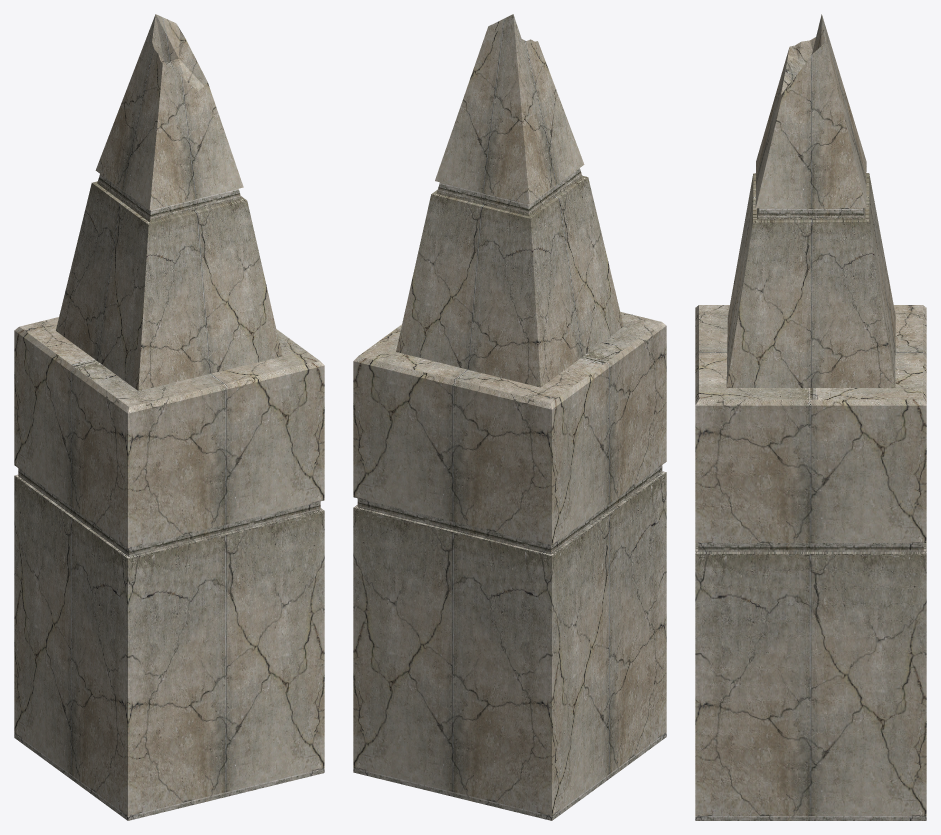
File: poi_all_monolith_s01_l0.fbx
3 renders of one model, left to right at view 1: azimuth 30°, elevation 25°; view 2: azimuth 150°, elevation 25°; view 3: azimuth 270°, elevation 25°, orthographic.
Visible parts, largest first — view 1: mesh_node; view 2: mesh_node; view 3: mesh_node.
Boxes of the visible parts, <box> form: mesh_node: <box>14,14,324,820</box>; mesh_node: <box>353,14,666,820</box>; mesh_node: <box>695,14,926,820</box>.
Size of the model in its own units: 10 by 35.93 by 10.
